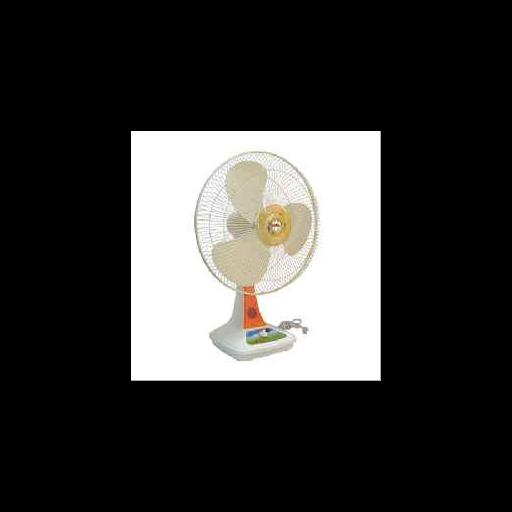Fan: (194, 151, 320, 296)
